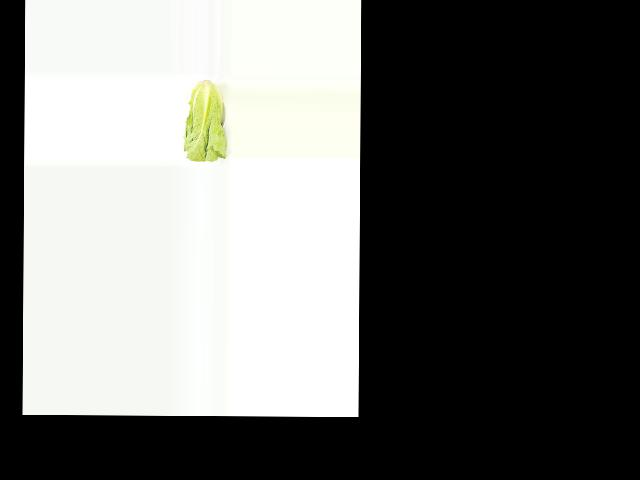lettuce: (182, 79, 227, 162)
